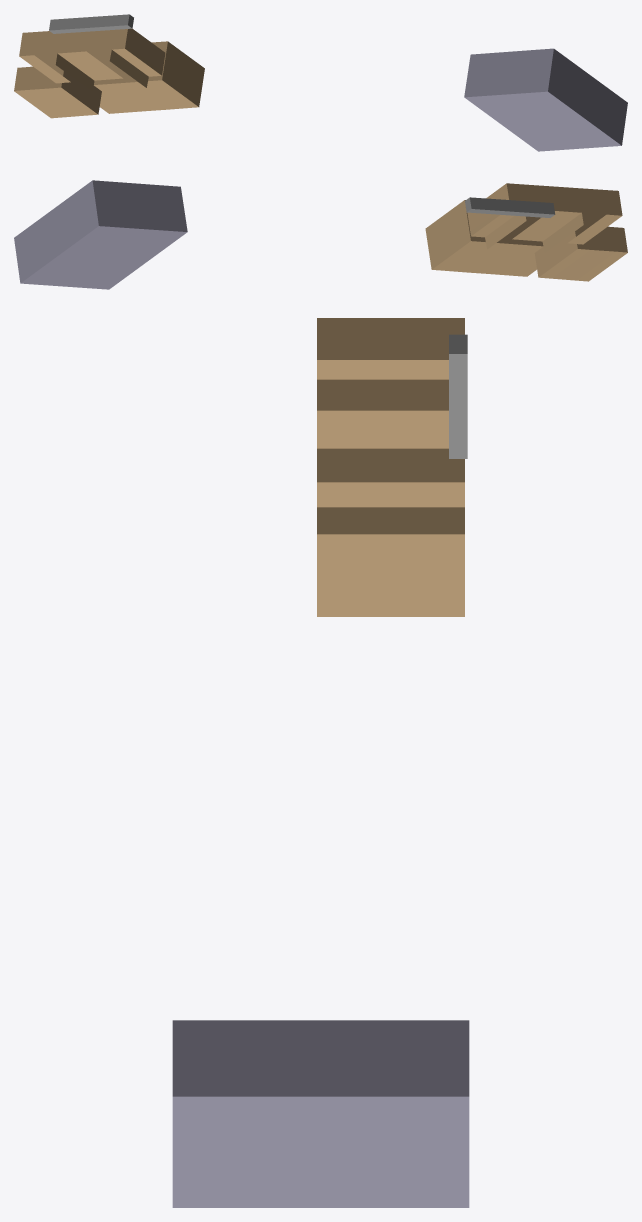
3 renders of one model, top to bottom at view 1: azimuth 30°, elevation 25°; view 2: azimuth 150°, elevation 25°; view 3: azimuth 270°, elevation 25°, orthographic. The views are drawn at different scales.
Parts seen in each view (by area): view 1: 0_3_2_3_1_2; view 2: 0_3_2_3_1_2; view 3: 0_3_2_3_1_2.
Part boxes in pixels (left/top/right/bottom): 0_3_2_3_1_2: left=14, top=14, right=627, bottom=151; 0_3_2_3_1_2: left=14, top=180, right=627, bottom=289; 0_3_2_3_1_2: left=172, top=318, right=469, bottom=1207.
Size of the model in its own units: 202 by 69.24 by 48.
